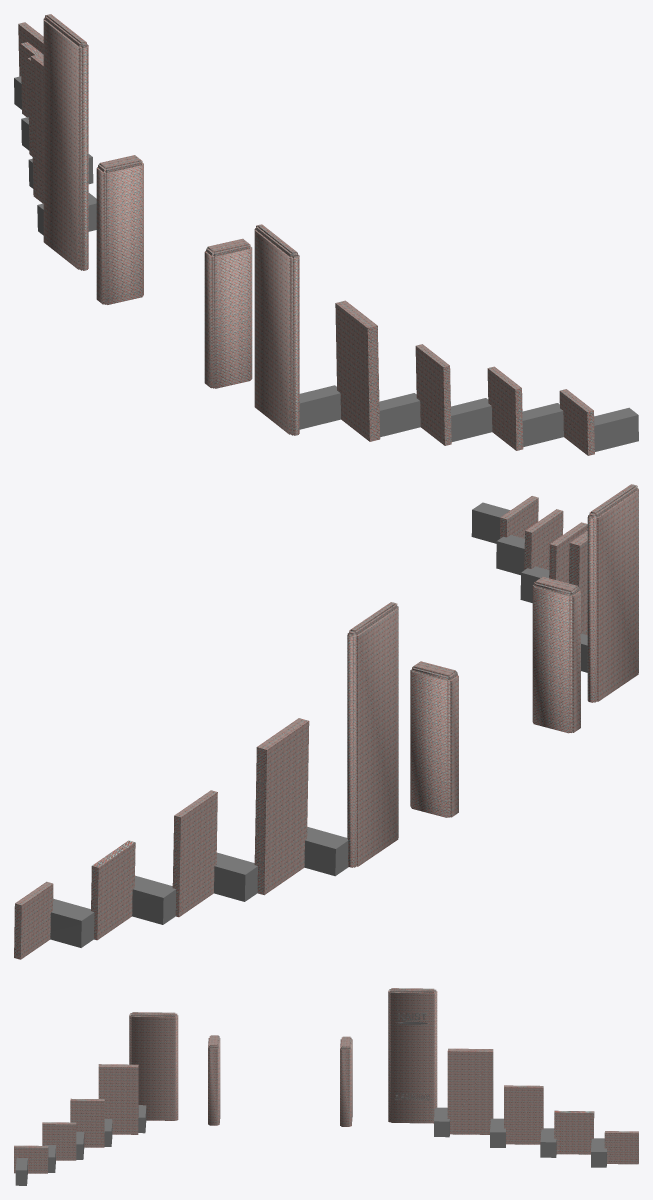
Rendered from Back_Gate_Tool.obj.
3 renders of one model, top to bottom at view 1: azimuth 30°, elevation 25°; view 2: azimuth 150°, elevation 25°; view 3: azimuth 270°, elevation 25°, orthographic. The views are drawn at different scales.
Visible parts, largest first — view 1: Material__33, Material__35; view 2: Material__33, Material__35; view 3: Material__33, Material__35, Material__34.
Boxes of the visible parts, bbox=[...] form: Material__33: bbox=[18, 14, 594, 455]; Material__35: bbox=[14, 76, 638, 451]; Material__33: bbox=[14, 484, 638, 959]; Material__35: bbox=[50, 502, 587, 947]; Material__33: bbox=[14, 988, 638, 1173]; Material__35: bbox=[15, 1105, 606, 1185]; Material__34: bbox=[394, 1013, 431, 1100].
Size of the model in its own units: 21.2 by 17.6 by 74.75.
3 materials, 1 textured.
